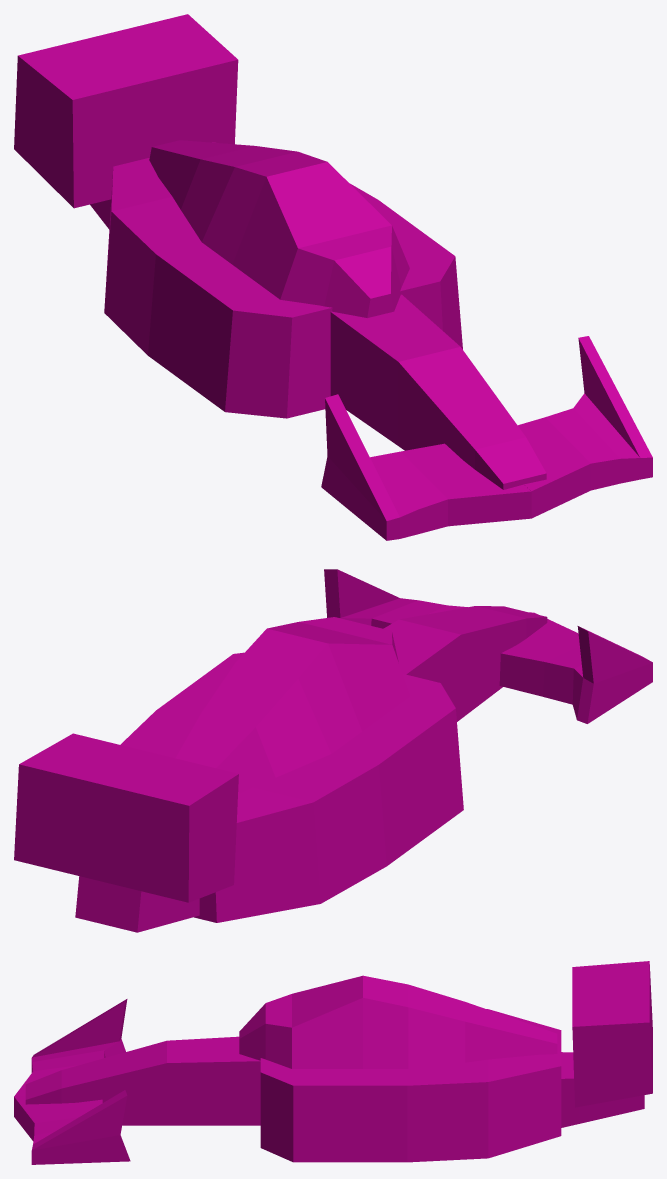
Rendered from SM_Veh_OpenWheeler_01_Preset_03_Collision.fbx.
The picture shows the model from 3 angles, top to bottom: view 1: azimuth 30°, elevation 25°; view 2: azimuth 150°, elevation 25°; view 3: azimuth 270°, elevation 25°; orthographic projection. The views are drawn at different scales.
Visible parts, largest first — view 1: SM_Veh_OpenWheeler_01_Preset_03_Collision; view 2: SM_Veh_OpenWheeler_01_Preset_03_Collision; view 3: SM_Veh_OpenWheeler_01_Preset_03_Collision.
Part boxes in pixels (left/top/right/bottom): SM_Veh_OpenWheeler_01_Preset_03_Collision: left=14, top=14, right=652, bottom=540; SM_Veh_OpenWheeler_01_Preset_03_Collision: left=14, top=569, right=652, bottom=932; SM_Veh_OpenWheeler_01_Preset_03_Collision: left=14, top=961, right=652, bottom=1164.
Bounding box in the file's own units: 254 × 163 × 711.
